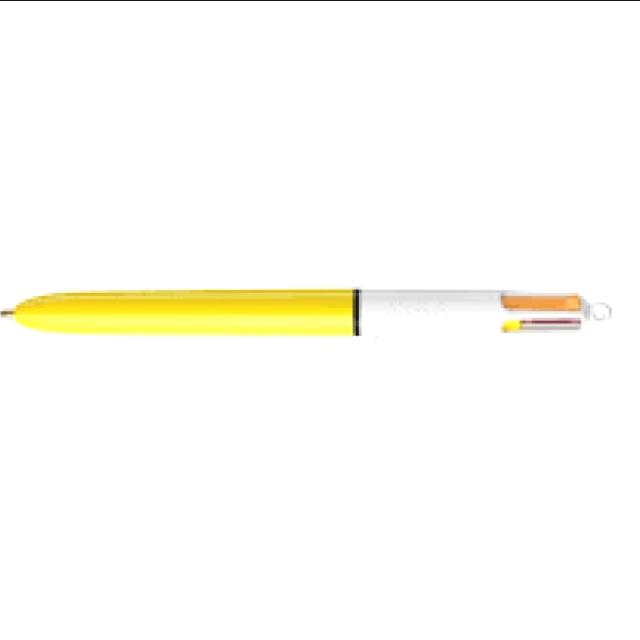Pen - Non Recyclable: (0, 288, 612, 352), (1, 288, 611, 348)
